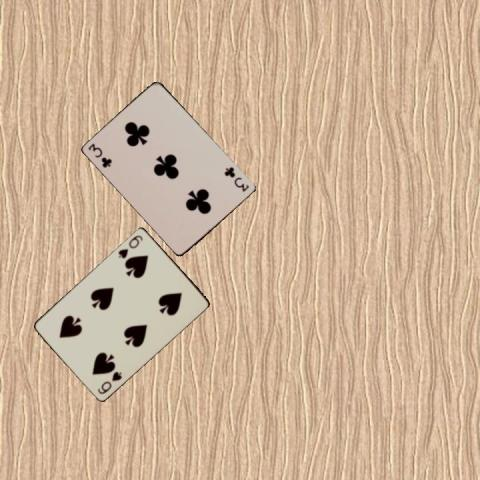3c: (221, 164, 251, 194), (86, 140, 114, 169)
6s: (115, 231, 144, 260), (95, 368, 123, 395)
